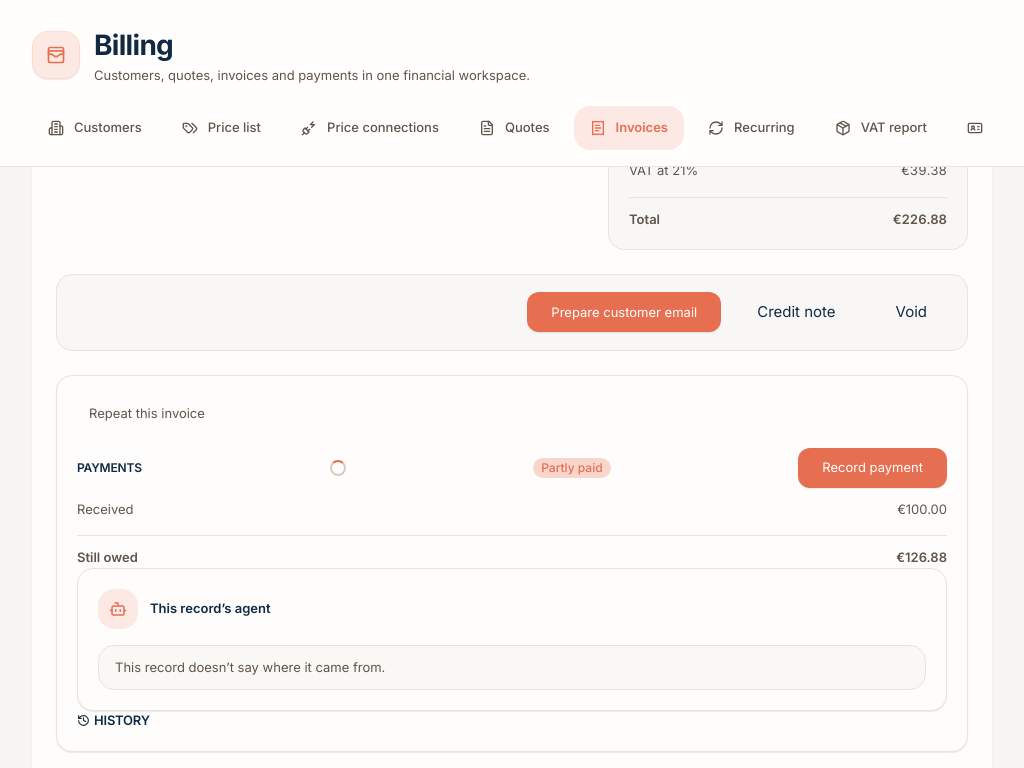
Scenario: the payment ledger of an invoice › the server's refusal is shown, never swallowed
The image size is (1024, 768).
(page scrolled)
Click the button "Record payment": x=873, y=468 top-left (798, 448), bottom-right (947, 488)
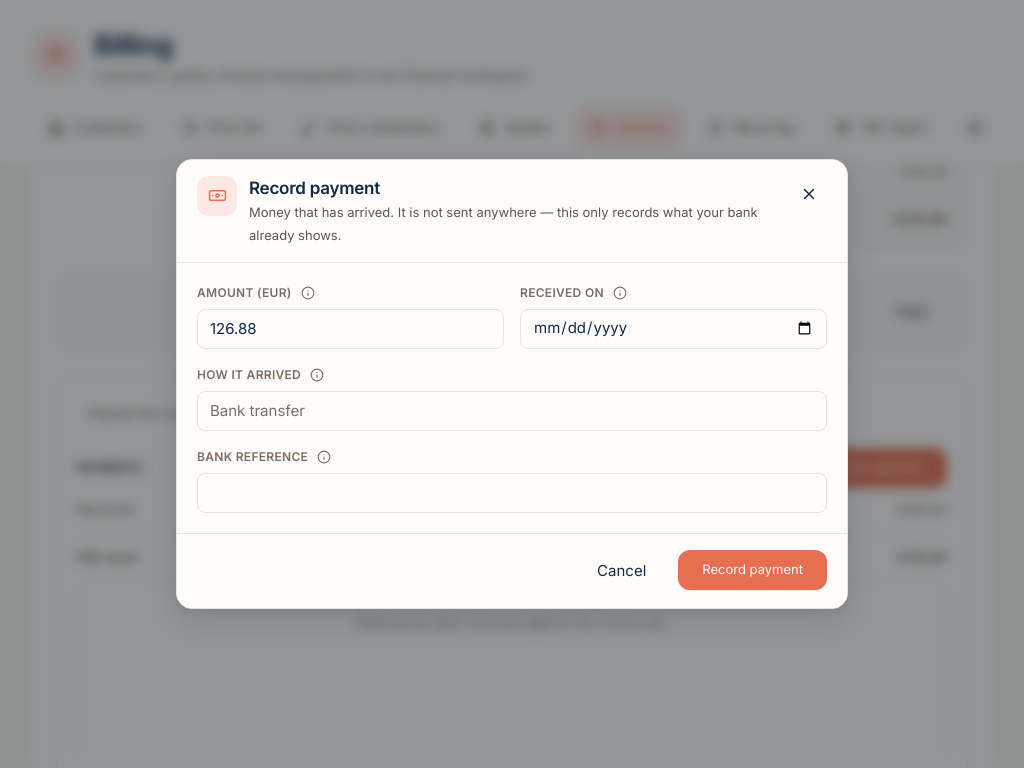
Click the button "Record payment": x=753, y=570 top-left (678, 550), bottom-right (827, 590)
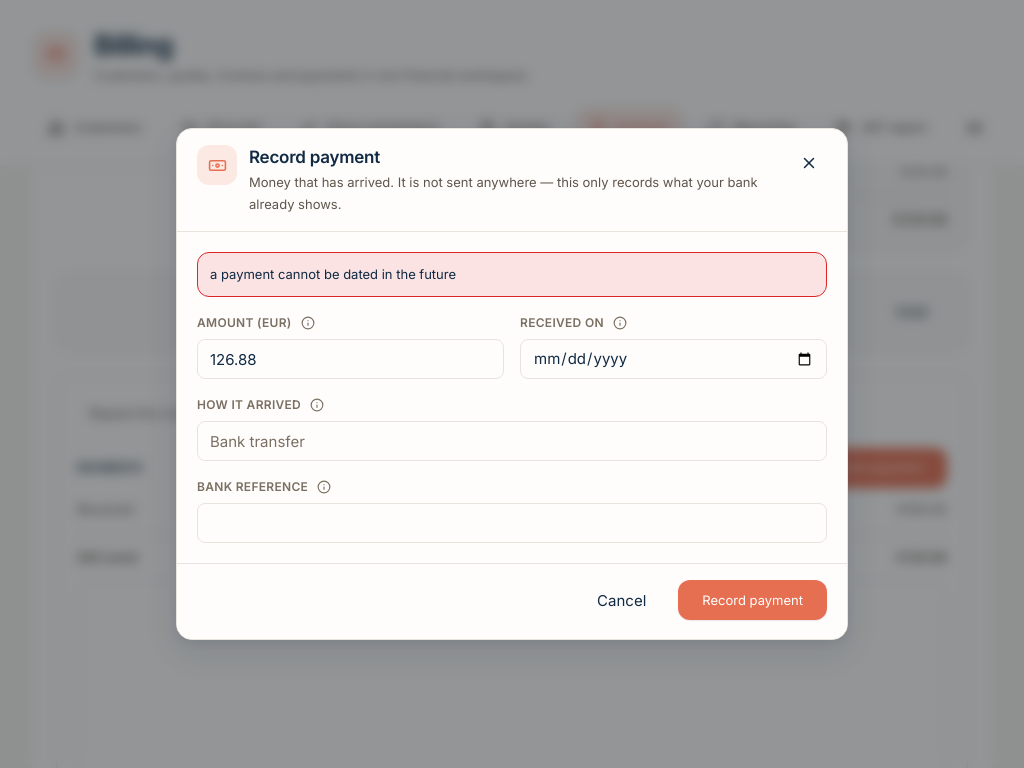
Check: the text "a payment cannot be dated in the future" is shown, box top-left (197, 252), bottom-right (827, 297)
